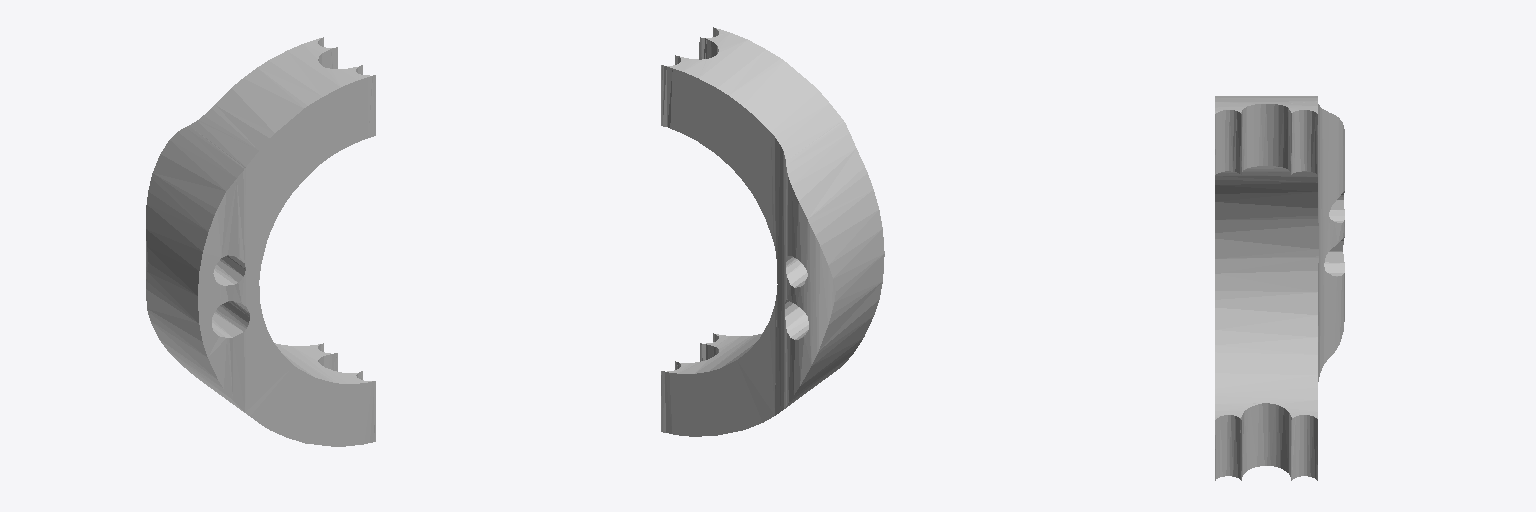
File: seg23.OBJ
3 views of the same model, side by side, from view 1: azimuth 30°, elevation 25°; view 2: azimuth 150°, elevation 25°; view 3: azimuth 270°, elevation 25° (orthographic).
Parts seen in each view (by area): view 1: /ambf/env/seg23_seg23; view 2: /ambf/env/seg23_seg23; view 3: /ambf/env/seg23_seg23.
Part boxes in pixels (left/top/right/bottom): /ambf/env/seg23_seg23: left=146, top=37, right=375, bottom=446; /ambf/env/seg23_seg23: left=661, top=27, right=884, bottom=436; /ambf/env/seg23_seg23: left=1215, top=96, right=1344, bottom=480.
Size of the model in its own units: 0.003 by 0.006 by 0.0019.